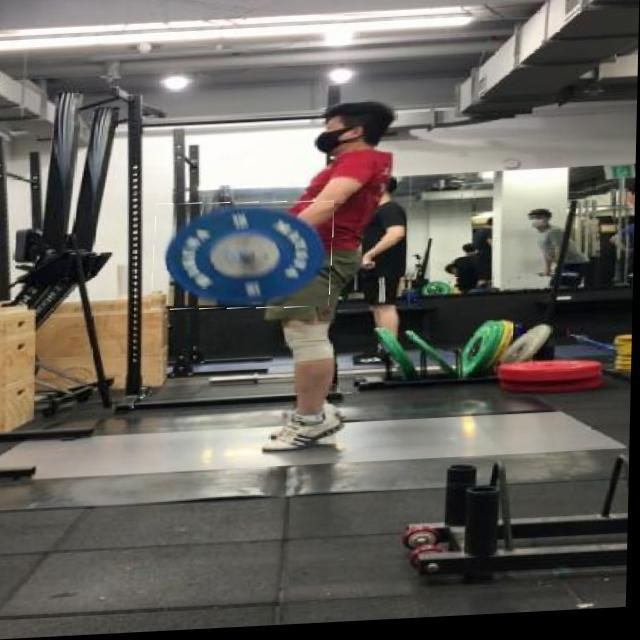barbell: (155, 201, 336, 316)
